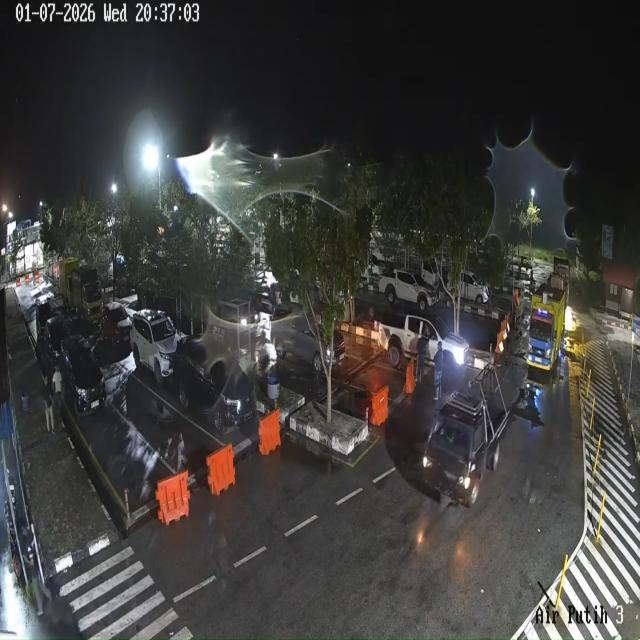Golongan IVA: (173, 337, 256, 433), (270, 307, 346, 374), (59, 334, 106, 416), (130, 309, 178, 386), (41, 314, 69, 372), (101, 301, 132, 346), (36, 301, 54, 340)
Golongan IVB: (418, 365, 510, 507), (378, 315, 469, 368), (378, 270, 438, 312)
Golongan VB: (527, 275, 568, 371), (58, 257, 102, 322)
